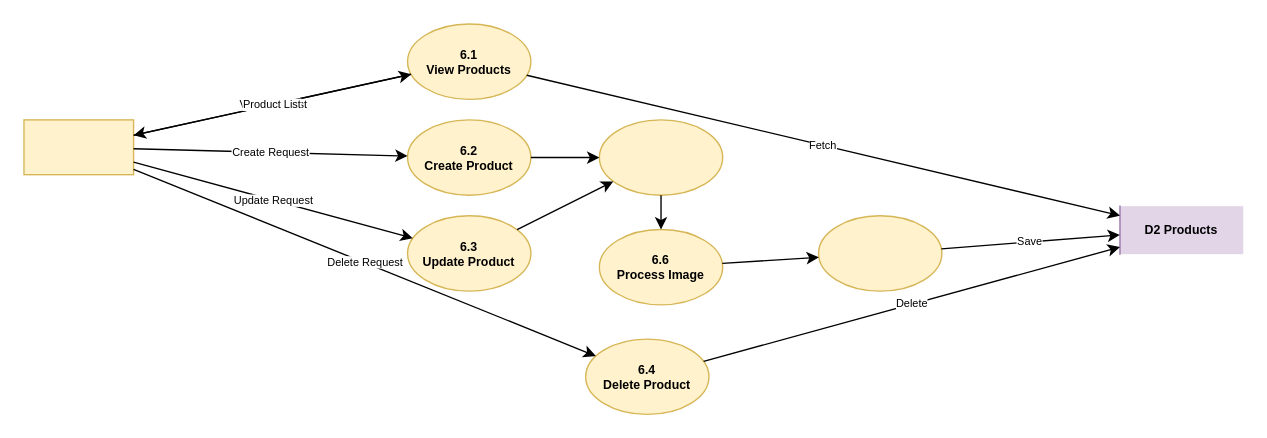
The diagram is 1267 pixels wide and 438 high, and some of its shapes have lost their labels. The centre of each missing label's shape, as x and y in pixels:
"6.5 Validate Data" goes at [660,157].
"6.7 Save to DB" goes at [879,252].
"Admin" goes at [78,147].
